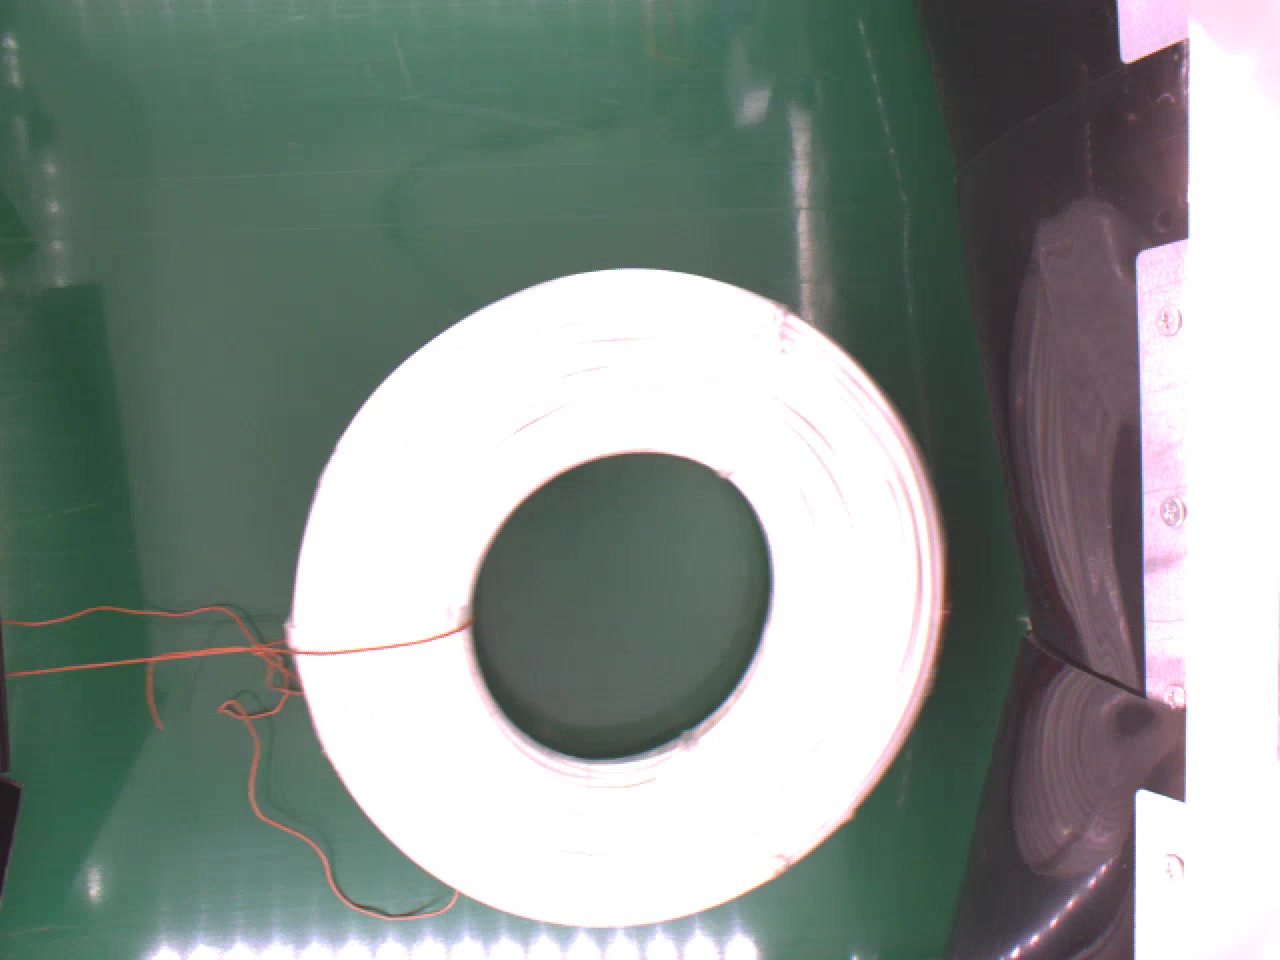white: (283, 260, 961, 931)
